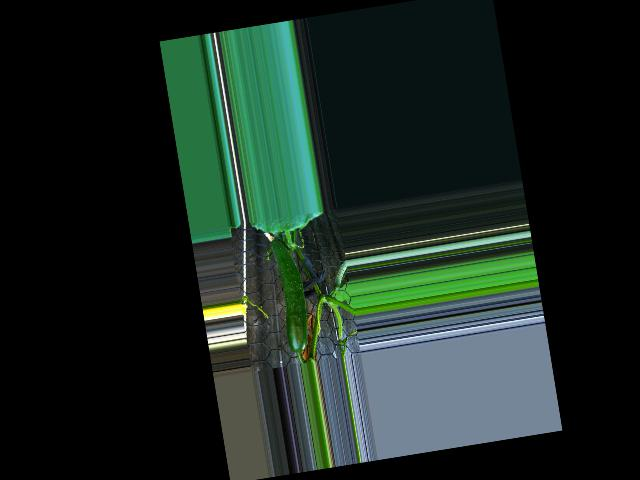cucumber: (270, 237, 313, 354)
